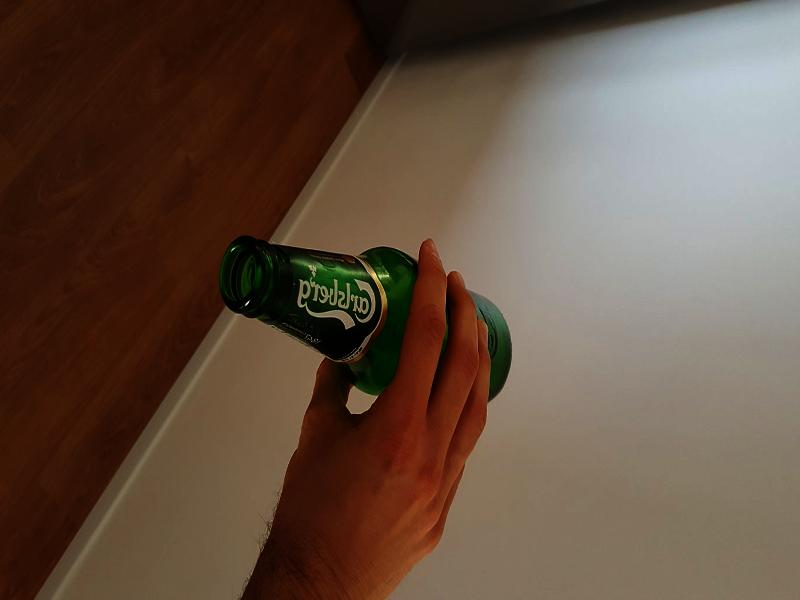Beer: (218, 237, 510, 395)
